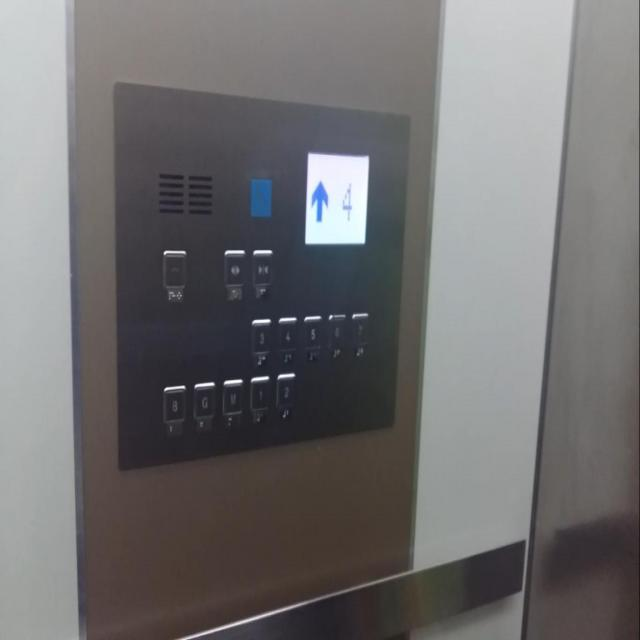1: (249, 375, 269, 411)
2: (276, 372, 295, 407)
3: (249, 316, 272, 355)
4: (277, 314, 297, 352)
5: (302, 313, 322, 349)
6: (328, 312, 346, 348)
7: (350, 311, 370, 347)
B: (163, 384, 186, 424)
G: (193, 383, 215, 419)
M: (222, 378, 242, 415)
blur: (162, 249, 185, 289), (250, 177, 271, 218)
close: (251, 247, 273, 286)
led: (303, 150, 370, 244)
open: (223, 247, 246, 285)
